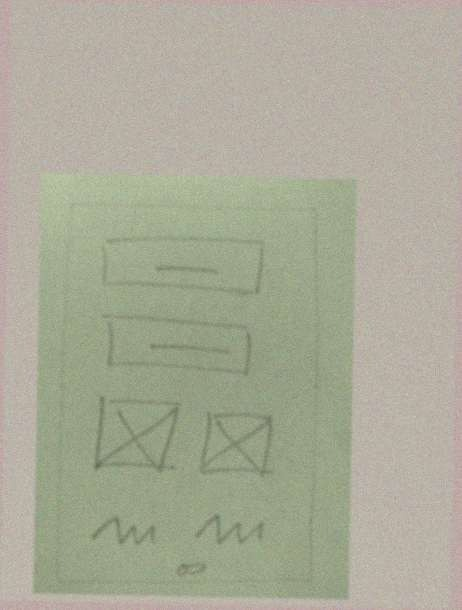button: (95, 230, 273, 300), (94, 308, 260, 380)
image: (88, 392, 183, 478), (196, 403, 284, 485)
switch: (168, 559, 215, 581)
text: (190, 505, 272, 552), (85, 511, 166, 552)
